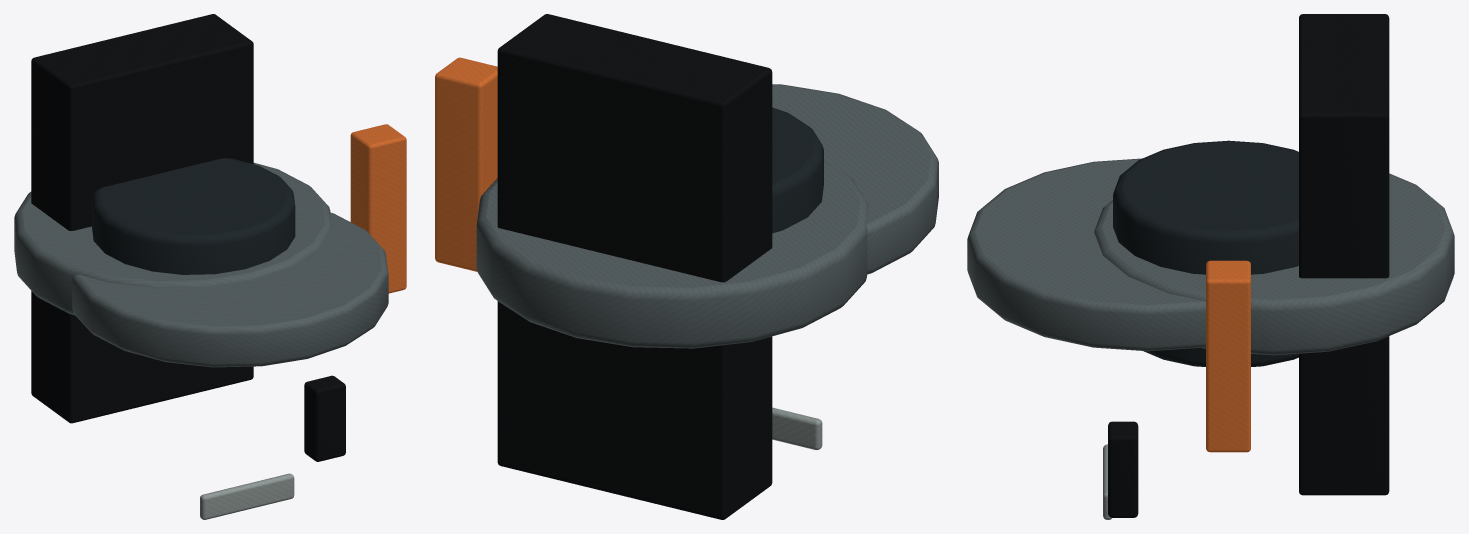
The model's file is WallCableReel.glb.
3 renders of one model, left to right at view 1: azimuth 30°, elevation 25°; view 2: azimuth 150°, elevation 25°; view 3: azimuth 270°, elevation 25°, orthographic. The views are drawn at different scales.
Parts seen in each view (by area): view 1: WallCableReel_Mesh; view 2: WallCableReel_Mesh; view 3: WallCableReel_Mesh.
Boxes of the visible parts, bbox=[...] form: WallCableReel_Mesh: bbox=[14, 14, 406, 519]; WallCableReel_Mesh: bbox=[435, 14, 938, 519]; WallCableReel_Mesh: bbox=[967, 14, 1454, 519].
Bounding box in the file's own units: 0.89 × 0.95 × 0.97.
Materials: 6 (6 with a texture image).
